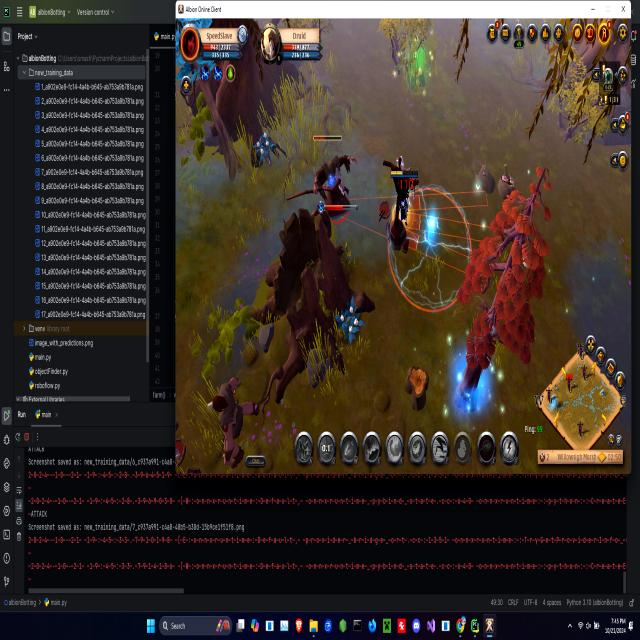hide: (335, 293, 364, 353), (251, 128, 280, 174)
ore: (204, 376, 262, 469), (304, 130, 356, 227)
red: (389, 164, 417, 226)
silver: (338, 187, 504, 281), (380, 184, 473, 312)
wisp caged: (447, 163, 554, 417), (176, 18, 252, 185)
